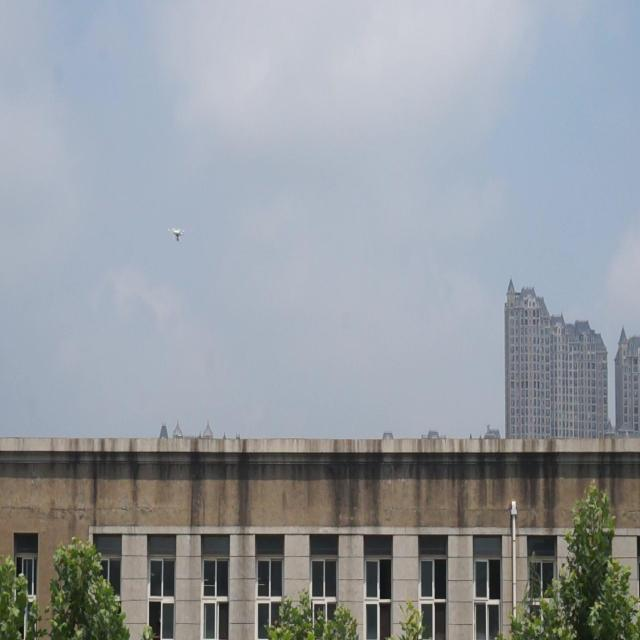drone: (168, 222, 184, 245)
